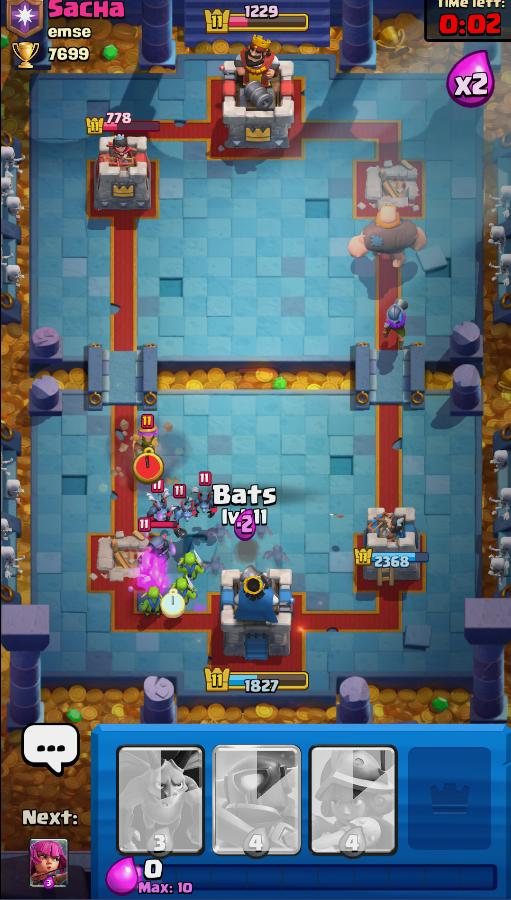bat: (256, 547, 297, 573), (199, 554, 232, 579), (205, 521, 237, 546), (249, 518, 280, 543)
gargouille: (144, 495, 174, 525), (175, 494, 203, 525), (192, 490, 222, 517)
geant: (338, 200, 438, 275)
gobelin: (135, 583, 173, 624), (173, 549, 209, 584), (167, 576, 203, 608)
mini_PEKKA: (134, 532, 180, 573)
mousquetaire: (373, 294, 421, 348), (128, 419, 174, 470)
